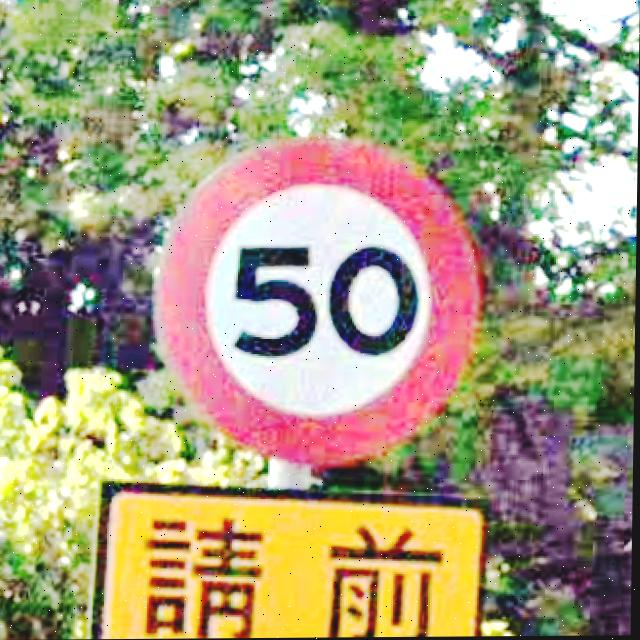max50: (151, 132, 486, 468)
